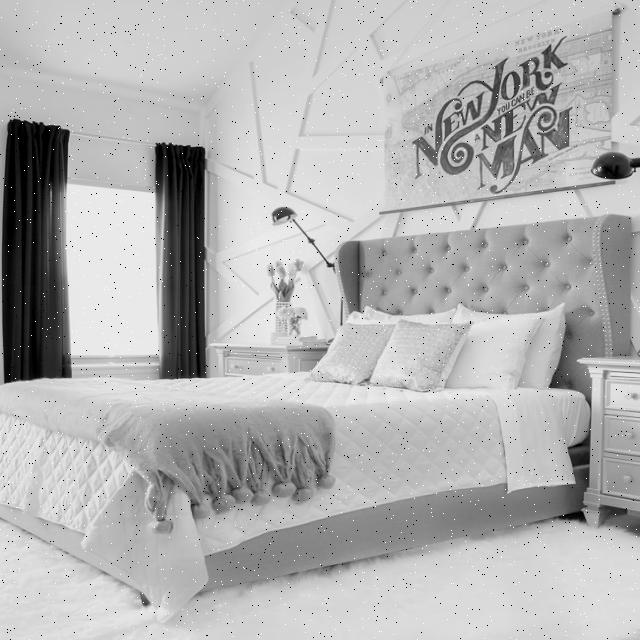bed: (6, 300, 596, 522)
